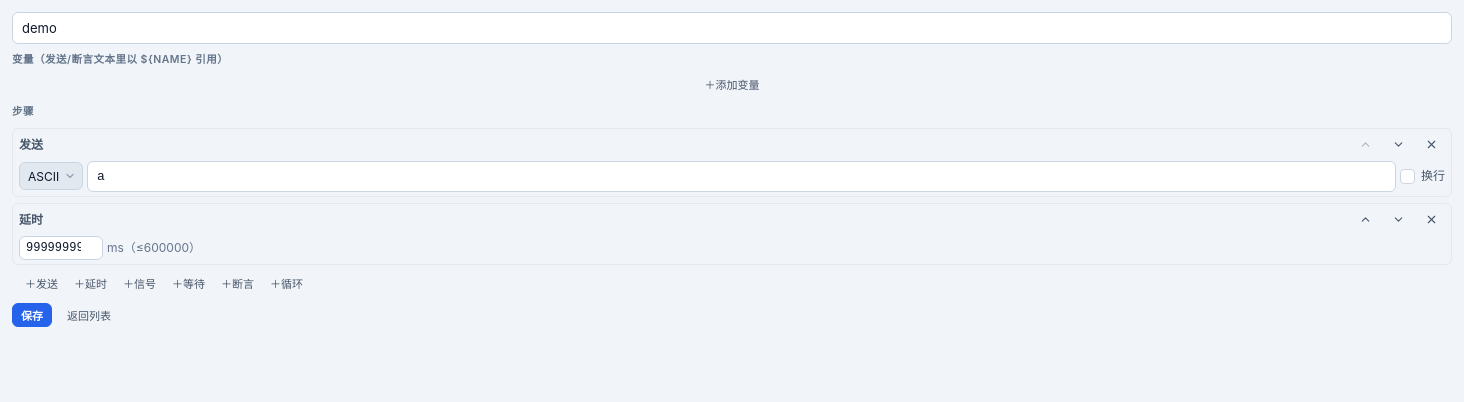
it: ScenarioEditor（步骤树编辑） › 校验错误按 step path 定位到行（steps[1] → 第二行高亮）
Click the button "保存" at (32, 314), box [12, 302, 52, 326]
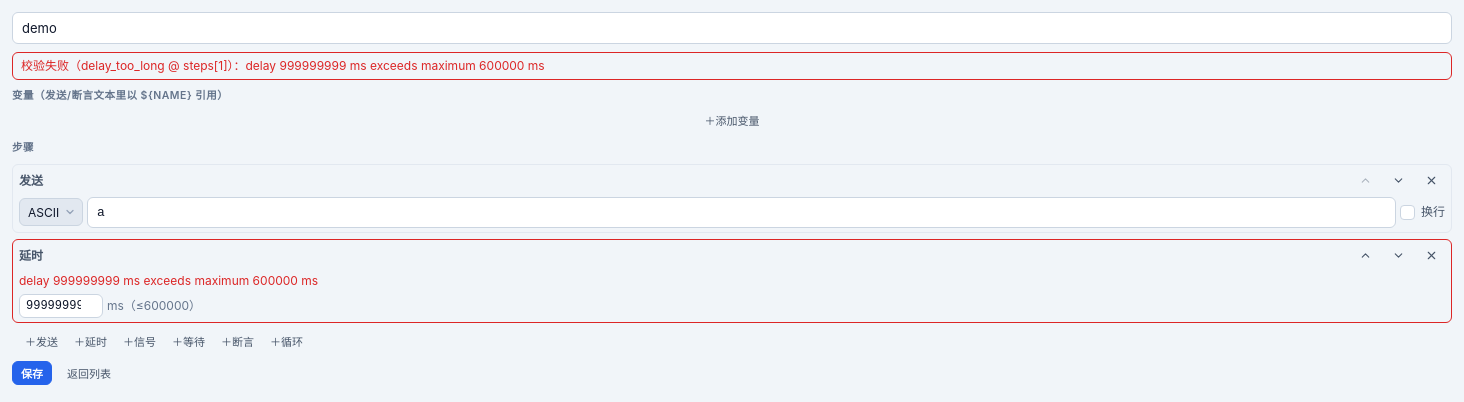
Now the text "delay 999999999 ms exceeds maximum 600000 ms" is shown, box [19, 272, 318, 288]
Now the text "delay_too_long" is shown, box [21, 58, 545, 73]
